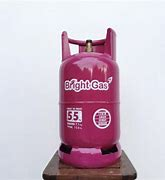bright_gas: (57, 28, 122, 169)
